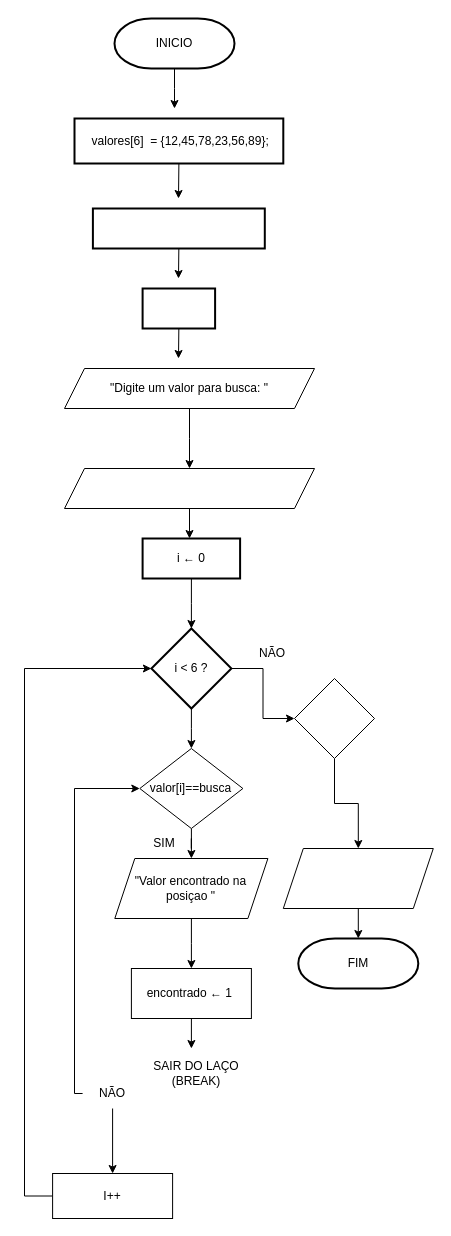
Image size: 451x1236. Some labels were removed from this diagram. The centre of each missing label's shape, as x and y in pixels:
!encontrado: [334,718]
"Valor nao localizado": [357,878]
busca: [178,308]
encontrado ← 0: [178,228]
guardando o valor da busca: [189,488]
